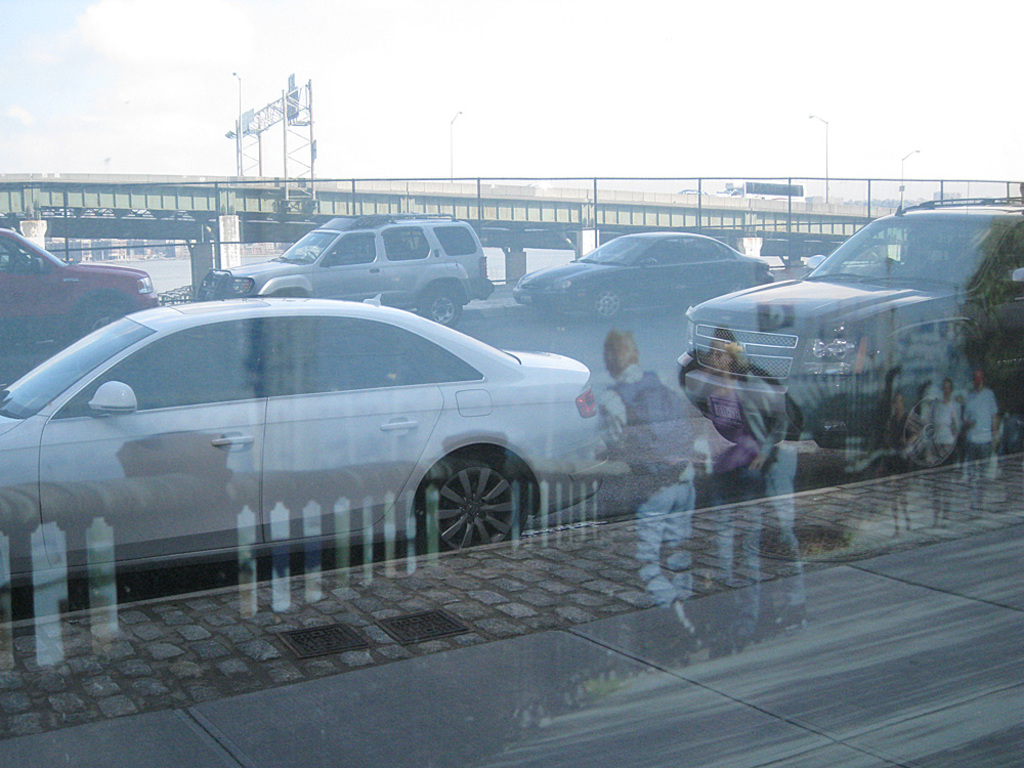Car: (0, 295, 608, 604), (668, 199, 1022, 461), (187, 212, 494, 328), (501, 227, 772, 318), (0, 230, 156, 340)
